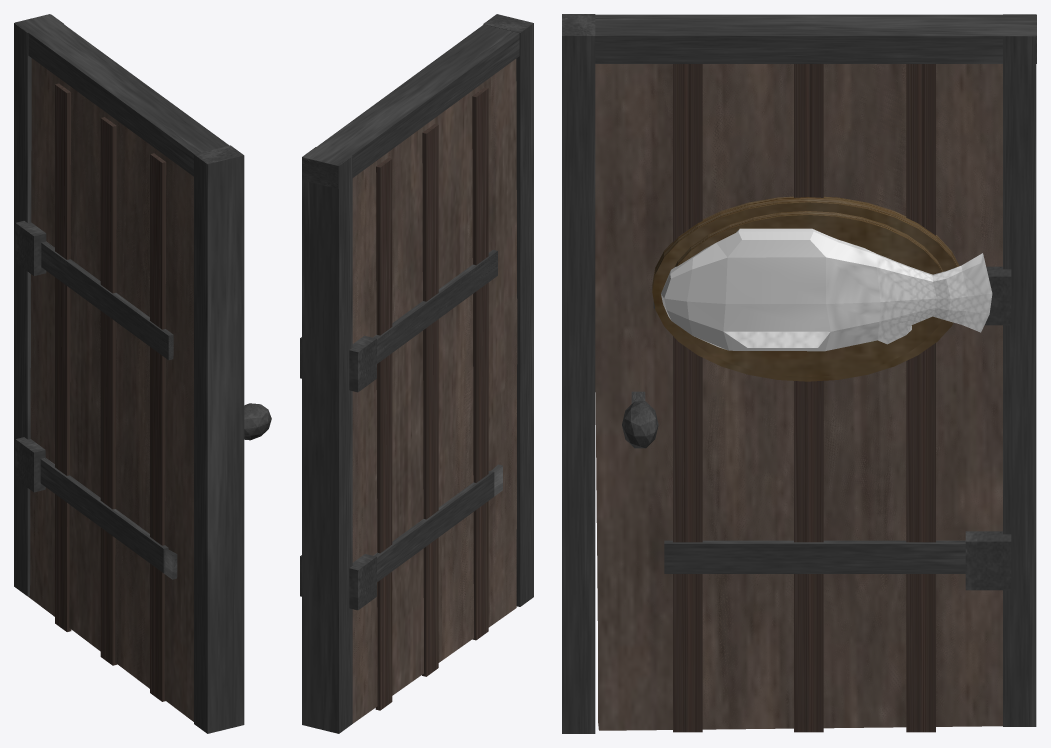
Rendered from kysDoorwTotem.fbx.
3 renders of one model, left to right at view 1: azimuth 30°, elevation 25°; view 2: azimuth 150°, elevation 25°; view 3: azimuth 270°, elevation 25°, orthographic. The views are drawn at different scales.
Visible parts, largest first — view 1: Cube; view 2: Cube; view 3: Cube, Cube.001.
Part boxes in pixels (<box>): Cube: <box>14,14,271,733</box>; Cube: <box>300,14,533,733</box>; Cube: <box>562,14,1036,733</box>; Cube.001: <box>652,196,992,381</box>.
Bounding box in the file's own units: 39.91 × 212 × 130.
